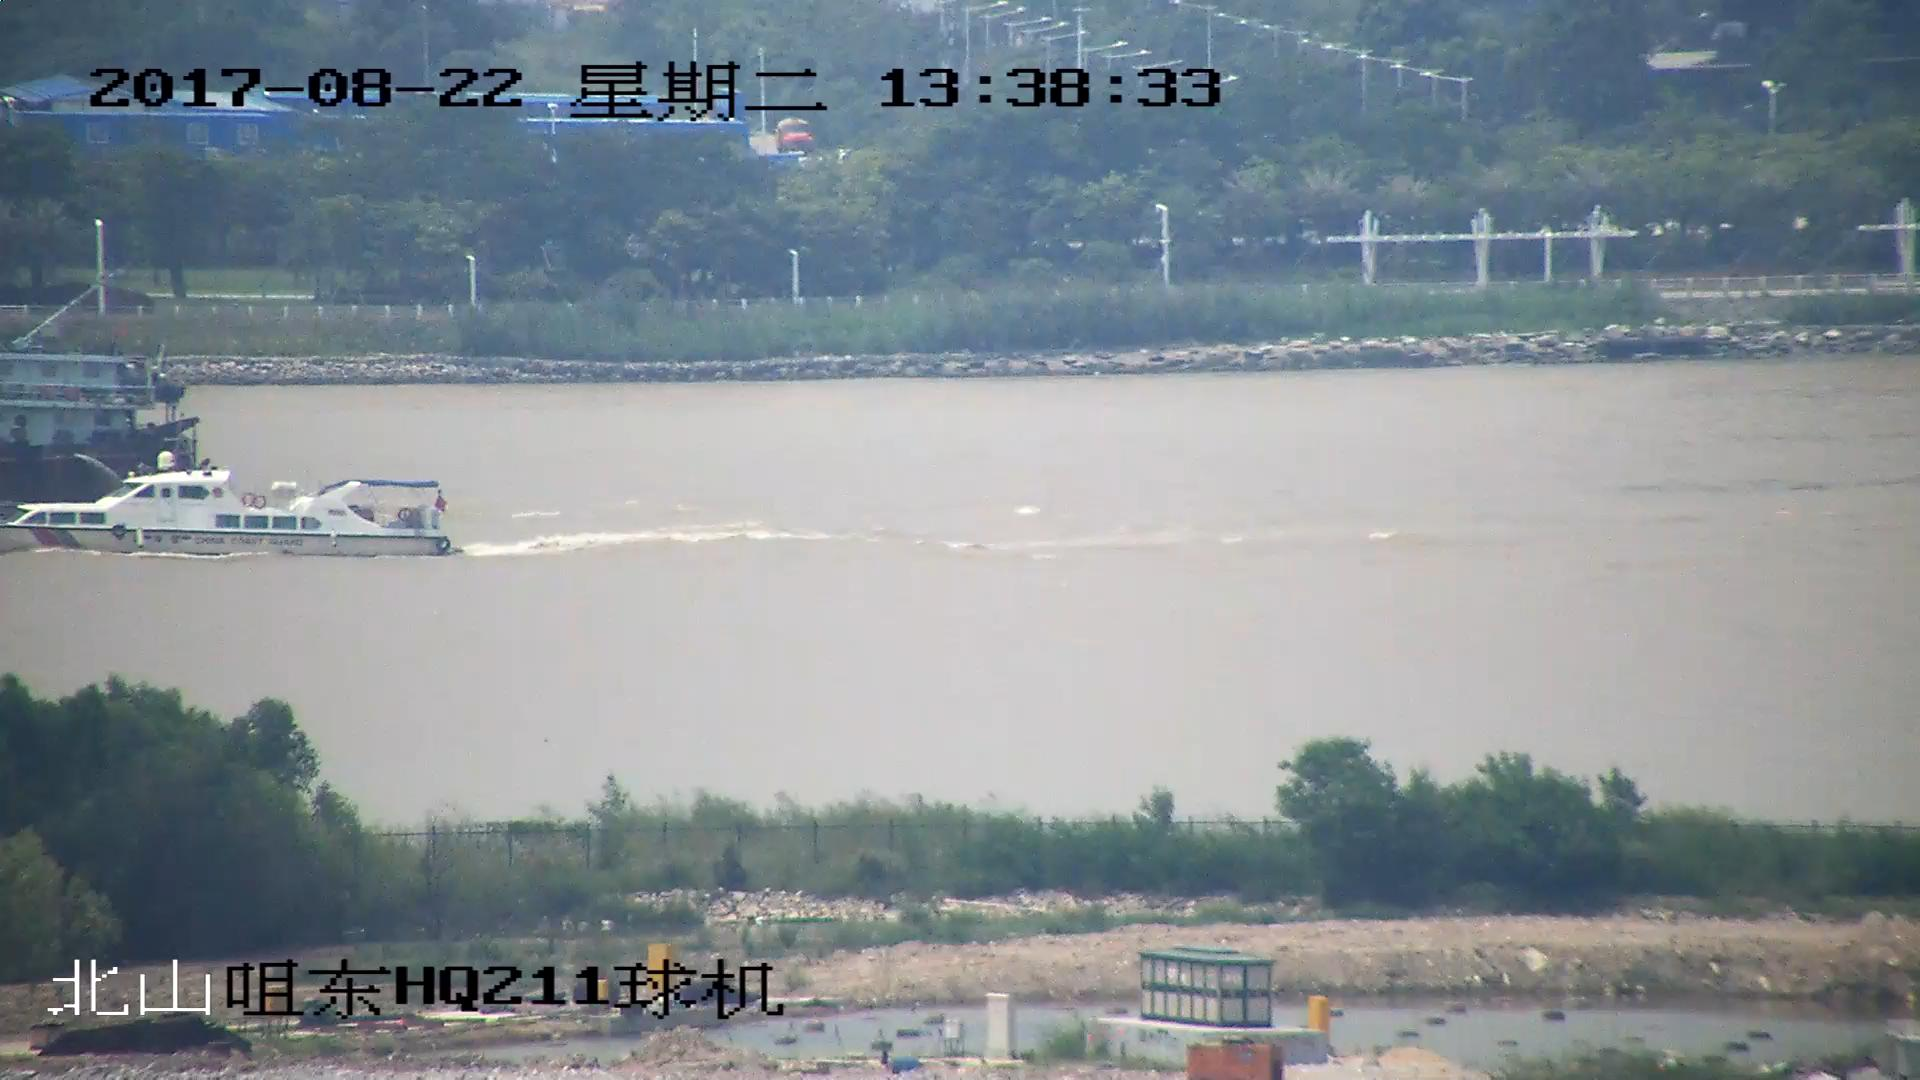bulk cargo carrier: (1, 320, 219, 514)
passenger ship: (4, 437, 455, 563)
